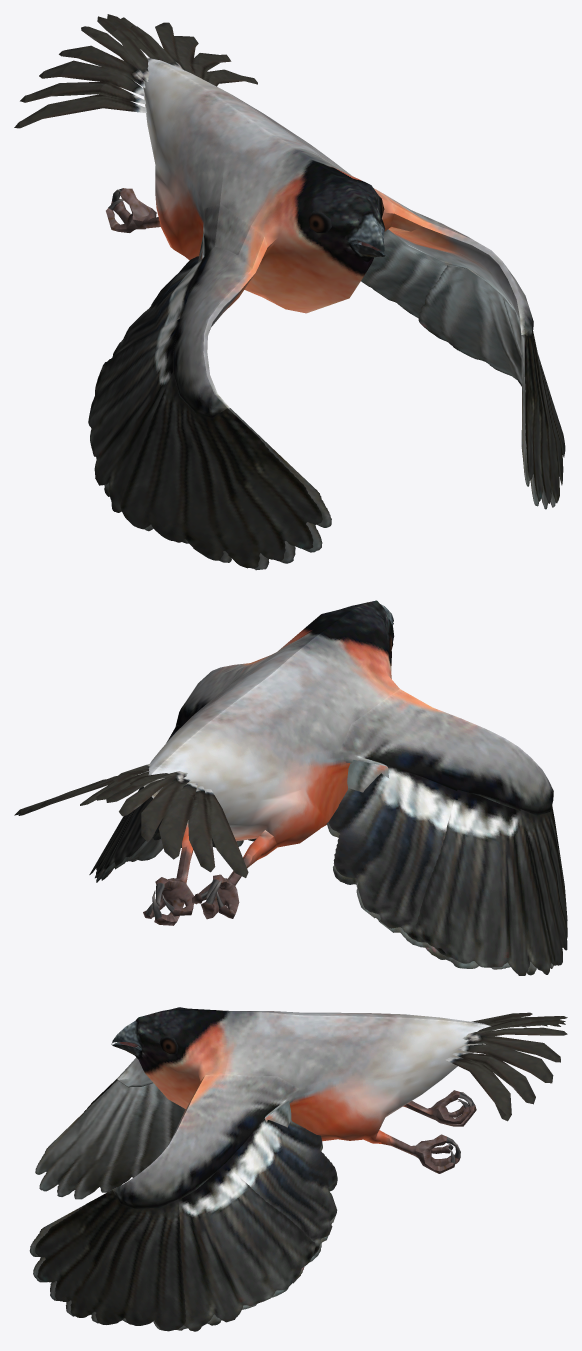
File: bird.fbx
3 renders of one model, top to bottom at view 1: azimuth 30°, elevation 25°; view 2: azimuth 150°, elevation 25°; view 3: azimuth 270°, elevation 25°, orthographic. The views are drawn at different scales.
Visible parts, largest first — view 1: Dove; view 2: Dove; view 3: Dove.
Part boxes in pixels (bbox=[...]): Dove: bbox=[14, 14, 565, 570]; Dove: bbox=[14, 600, 567, 975]; Dove: bbox=[29, 1007, 567, 1331].
Bounding box in the file's own units: 13.85 × 9.54 × 19.05.
